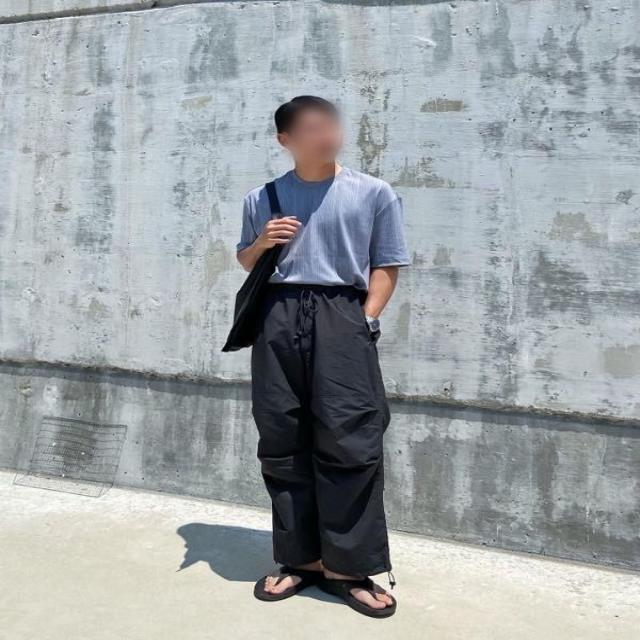cottonpants: (252, 283, 392, 577)
shortsleeve: (235, 166, 409, 292)
